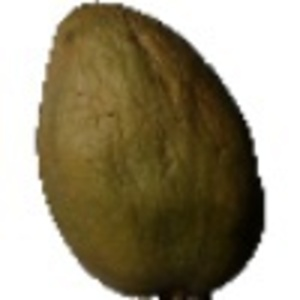mamão: (17, 3, 275, 294)
